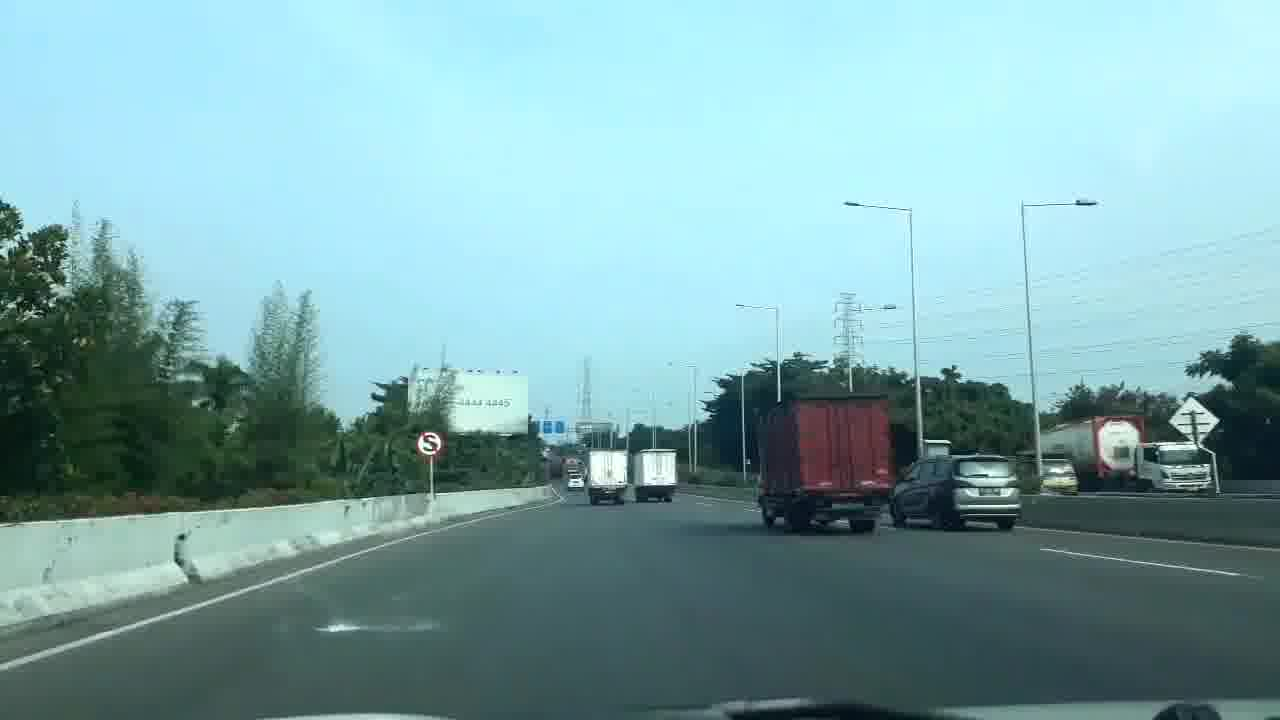plate_positive: (832, 502, 864, 512), (979, 487, 1001, 496)
